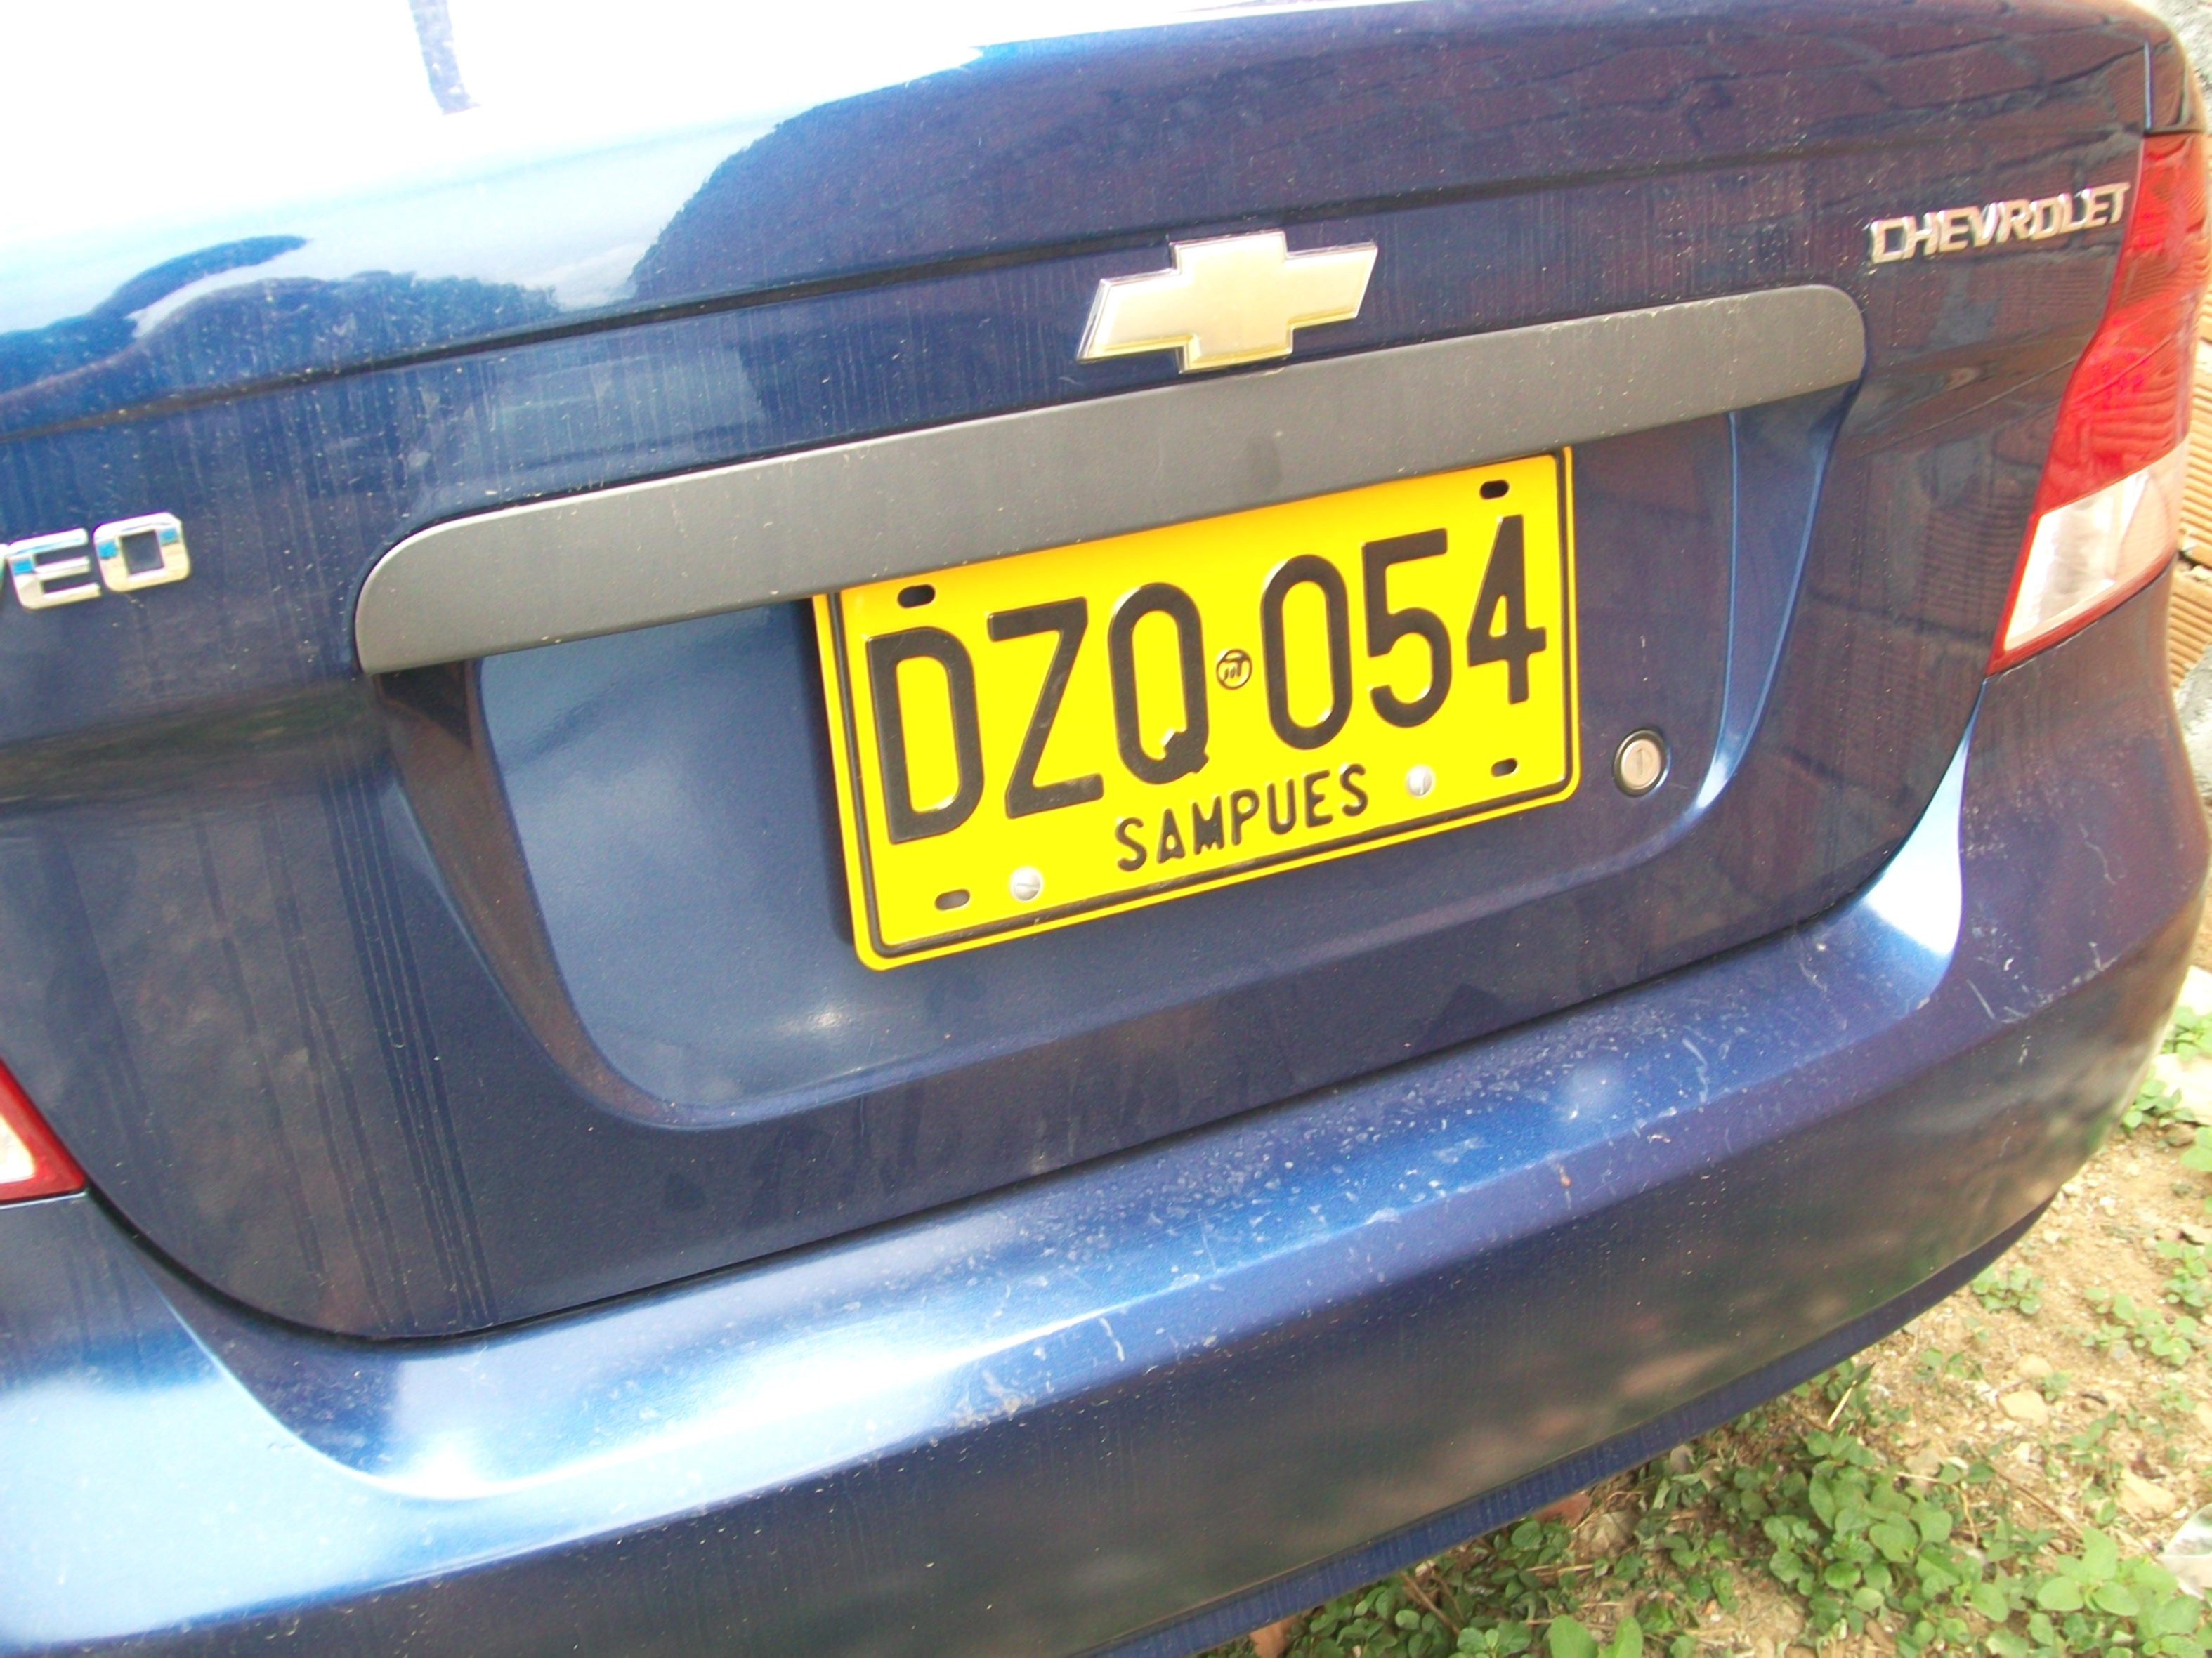placas: (804, 443, 1590, 976)
